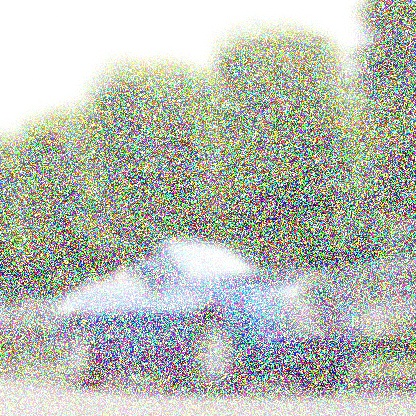Vehicle: (53, 238, 358, 395)
